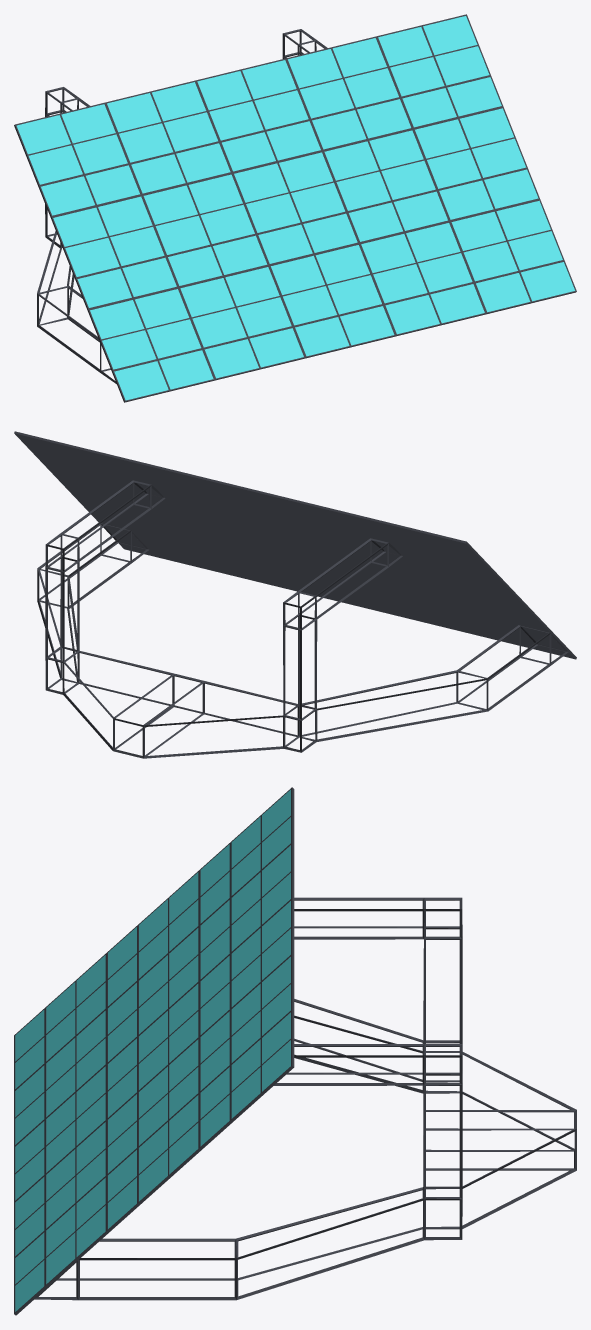
Rendered from SolarPannelArray.fbx.
The picture shows the model from 3 angles, top to bottom: view 1: azimuth 30°, elevation 25°; view 2: azimuth 150°, elevation 25°; view 3: azimuth 270°, elevation 25°; orthographic projection. The views are drawn at different scales.
Parts seen in each view (by area): view 1: Cube; view 2: Cube; view 3: Cube.
Boxes of the visible parts, left/top/right/bottom form: Cube: left=14, top=14, right=576, bottom=402; Cube: left=14, top=431, right=576, bottom=758; Cube: left=14, top=787, right=576, bottom=1315.
Bounding box in the file's own units: 2995 × 1254 × 2558.
